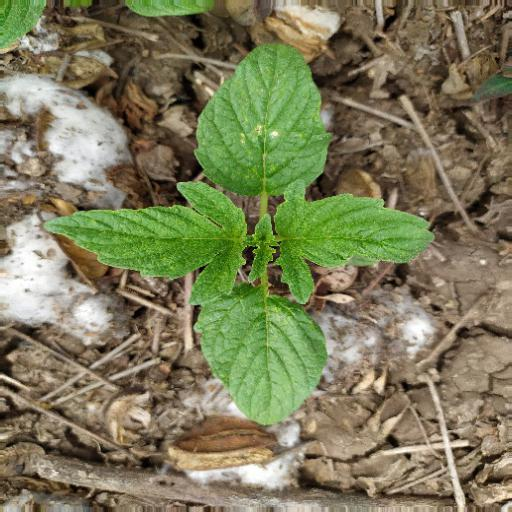crop: (47, 35, 436, 471)
